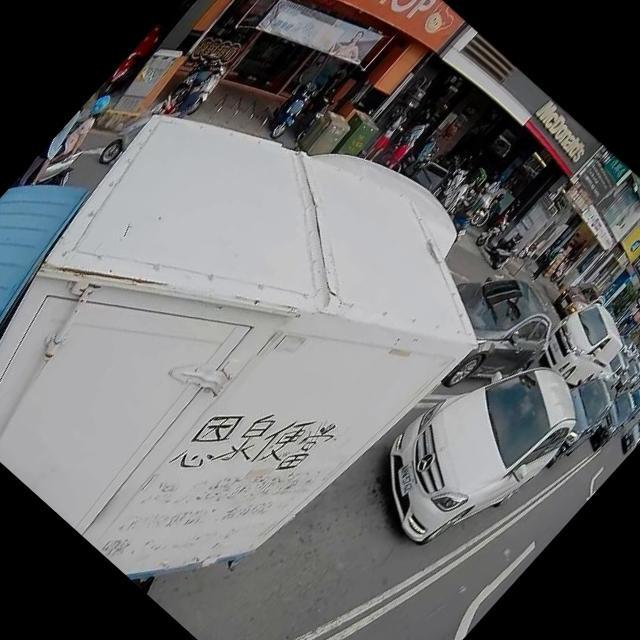person: (23, 87, 122, 193), (158, 61, 219, 124), (378, 112, 436, 174), (360, 105, 416, 165), (462, 174, 508, 224), (388, 104, 432, 152), (438, 172, 479, 214), (430, 163, 469, 204), (529, 241, 567, 282)
